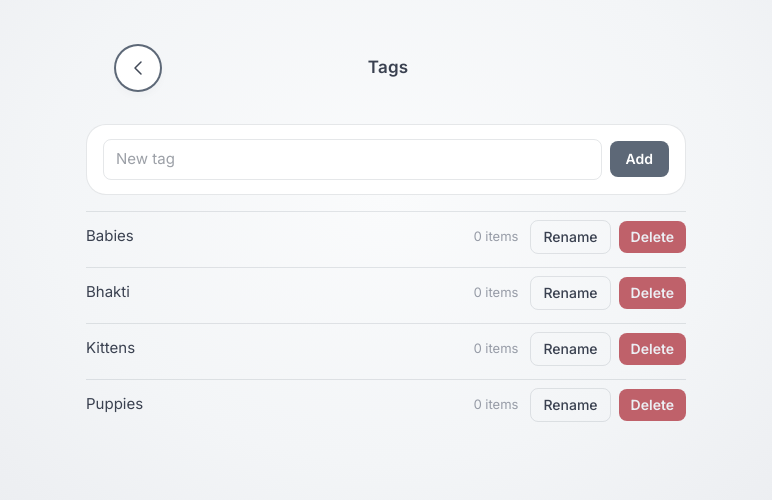
it: TagsScreen › renames a seeded tag
Click the button "Rename" in the row of "Babies".
click(570, 236)  # box [530,220,610,254]
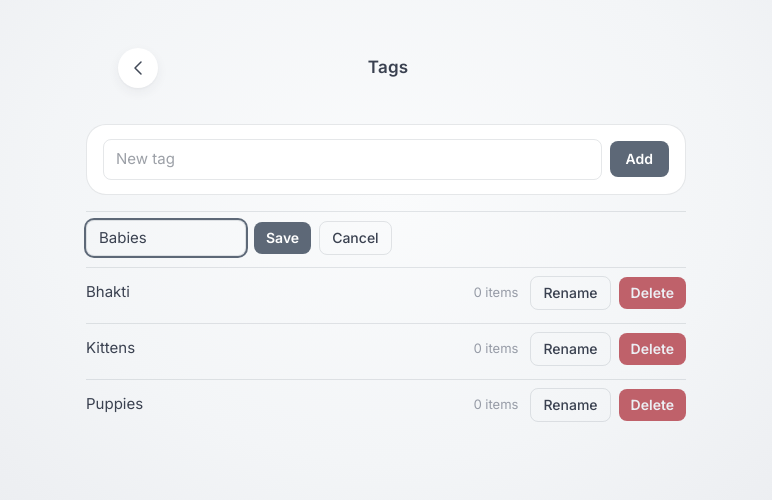
Replace the text in the field named "Rename" with "Infants" at (166, 238), box [86,220,246,256]
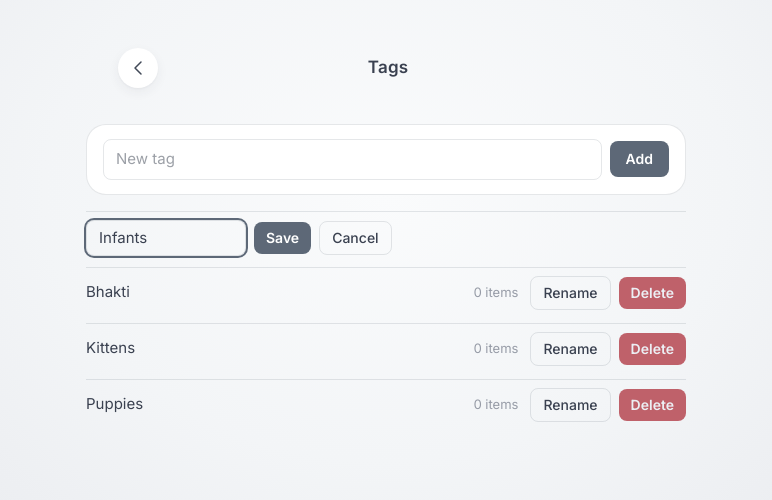
Click the button "Save".
click(283, 238)  # box [254,222,311,254]
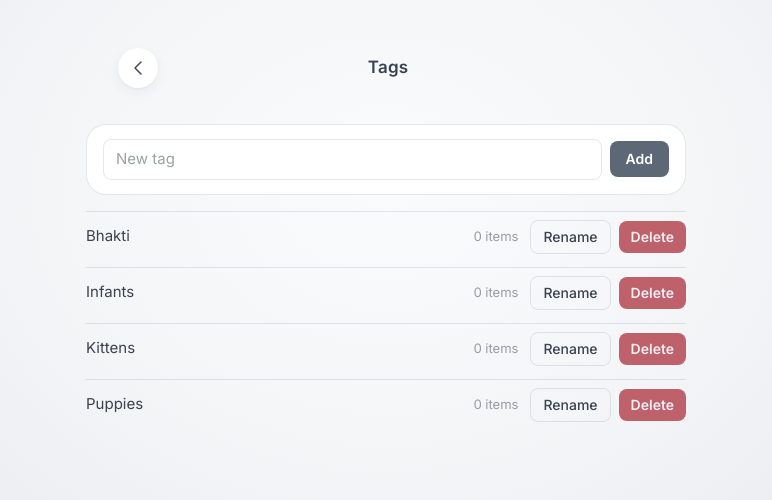
Now the text "Infants" is shown, box [86,281,134,304]
